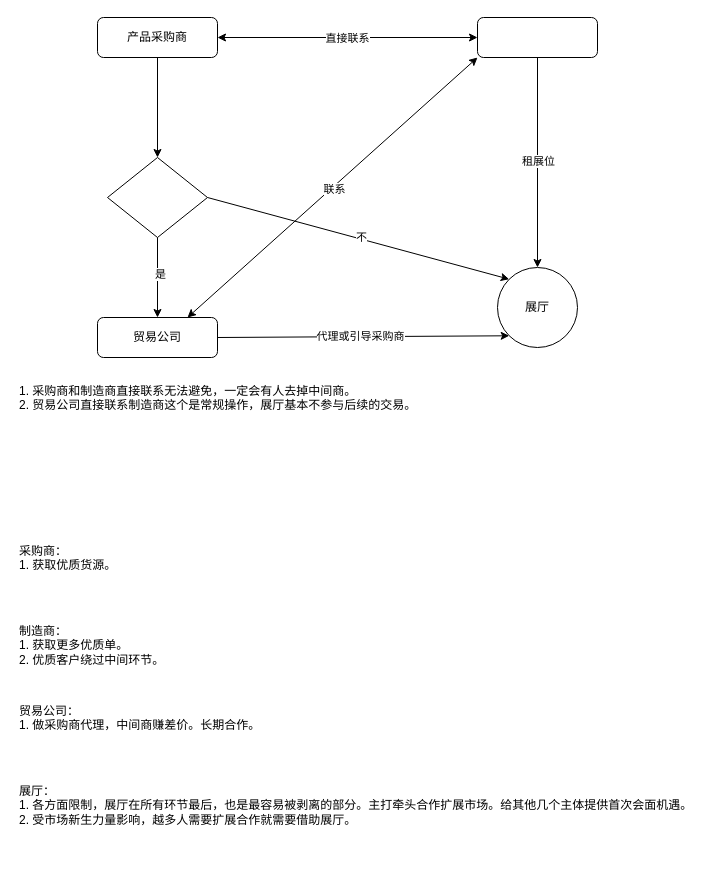
Some shapes in this 714 by 875 pixel diagram are drawn without their labels. The shapes that lost their labels are listed below. From the top down, each one's box as (x1, y1, x2, y2) in pixels, then its label:
(476, 16, 598, 58): 产品制造商
(106, 156, 208, 238): 是否由公司代理
